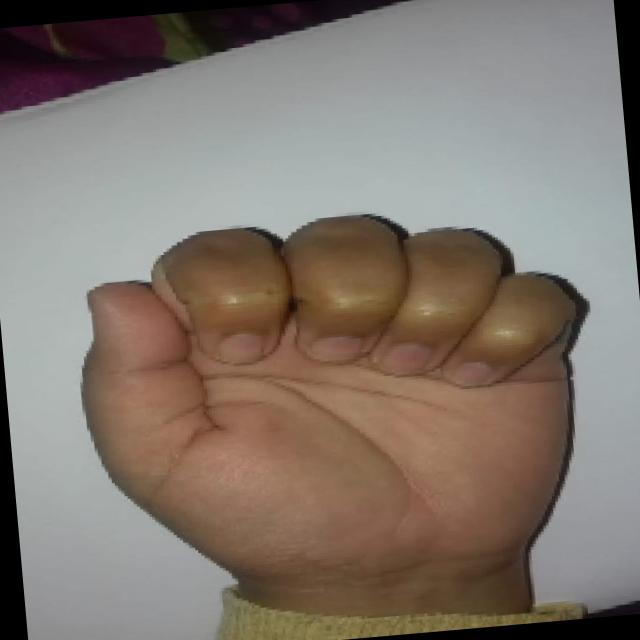Nail: (378, 342, 430, 375), (304, 333, 363, 362), (218, 331, 264, 363), (443, 360, 491, 385)
